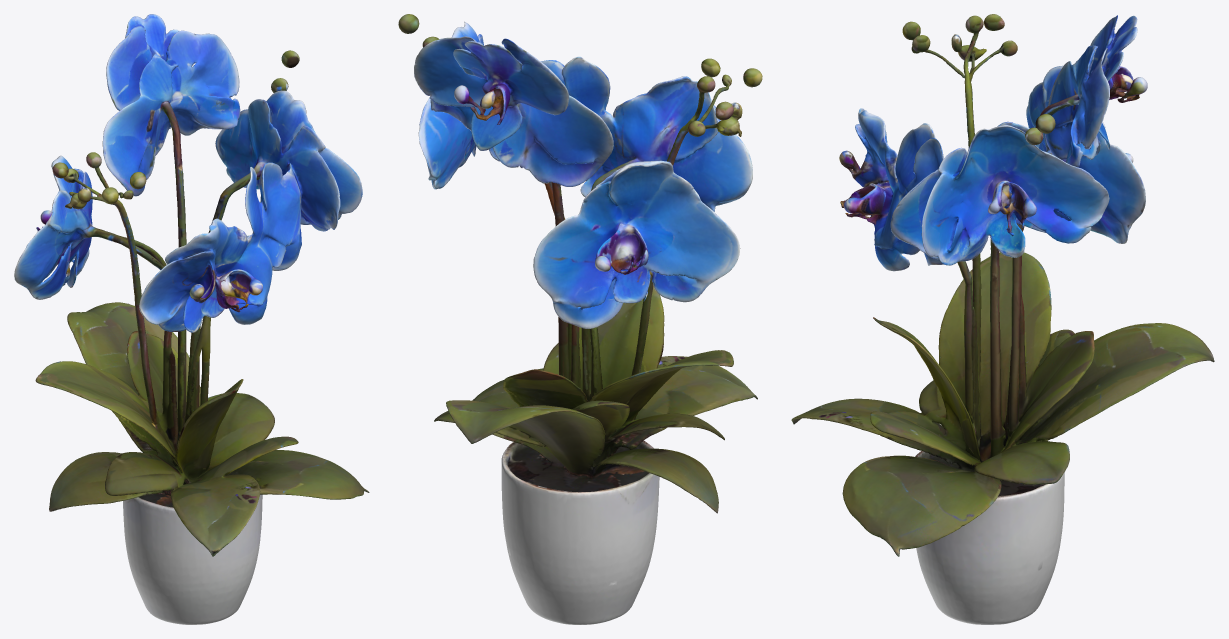
Rendered from Meshy_AI_orquideas_azul_brilla_0929042130_texture.fbx.
3 views of the same model, side by side, from view 1: azimuth 30°, elevation 25°; view 2: azimuth 150°, elevation 25°; view 3: azimuth 270°, elevation 25° (orthographic). The views are drawn at different scales.
Visible parts, largest first — view 1: Mesh_0; view 2: Mesh_0; view 3: Mesh_0.
Part boxes in pixels (x1,y1,x2,y2): Mesh_0: [14, 14, 369, 624]; Mesh_0: [398, 14, 762, 624]; Mesh_0: [791, 14, 1214, 624].
Size of the model in its own units: 17.43 by 30 by 19.41.
Materials: 1 (1 with a texture image).
